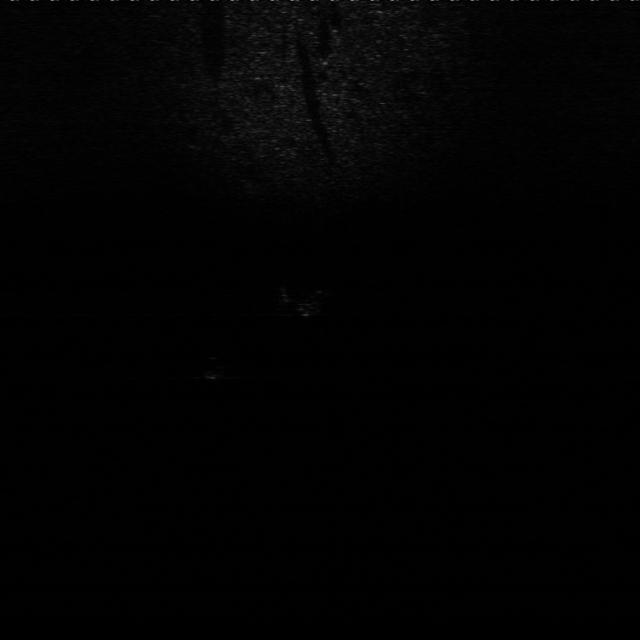ball: (194, 354, 230, 379)
human body: (270, 282, 330, 320)
